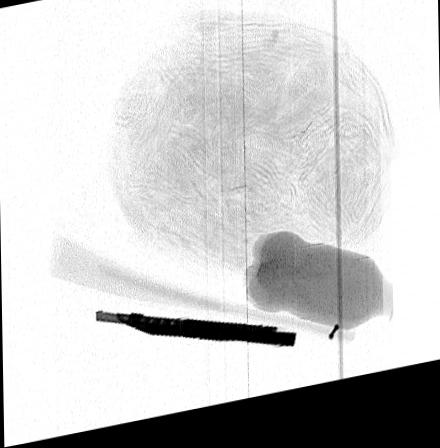Knife: (94, 315, 297, 359)
